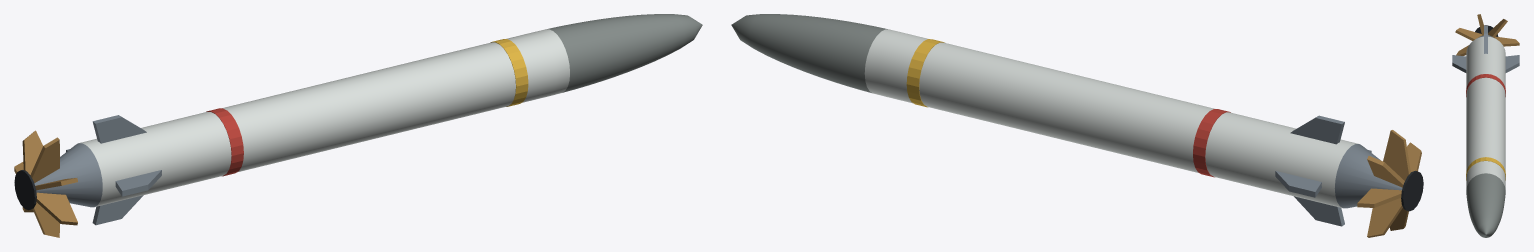
The model's file is pla_yu6.glb.
3 renders of one model, left to right at view 1: azimuth 30°, elevation 25°; view 2: azimuth 150°, elevation 25°; view 3: azimuth 270°, elevation 25°, orthographic. The views are drawn at different scales.
Visible parts, largest first — view 1: missile_body, seeker, titanium, bronze, marking_yellow, hazard_red, rubber; view 2: missile_body, seeker, titanium, bronze, marking_yellow, hazard_red, rubber; view 3: missile_body, seeker, bronze, titanium, marking_yellow, hazard_red, rubber.
Boxes of the visible parts, x1,y1,x2,y2 form: missile_body: (79, 29, 569, 206); seeker: (547, 14, 702, 92); titanium: (34, 115, 161, 225); bronze: (14, 130, 77, 237); marking_yellow: (490, 39, 528, 106); hazard_red: (206, 108, 243, 176); rubber: (14, 170, 36, 210); missile_body: (864, 29, 1358, 208); seeker: (731, 14, 887, 93); titanium: (1275, 115, 1402, 226); bronze: (1357, 130, 1421, 237); marking_yellow: (906, 39, 944, 107); hazard_red: (1193, 109, 1230, 177); rubber: (1401, 170, 1423, 211); missile_body: (1466, 36, 1505, 189); seeker: (1466, 173, 1505, 237); bronze: (1455, 14, 1519, 55); titanium: (1452, 26, 1519, 72); marking_yellow: (1466, 157, 1505, 180); hazard_red: (1466, 74, 1505, 96); rubber: (1475, 25, 1498, 36).
Size of the model in its own units: 10 by 1.43 by 1.43.
